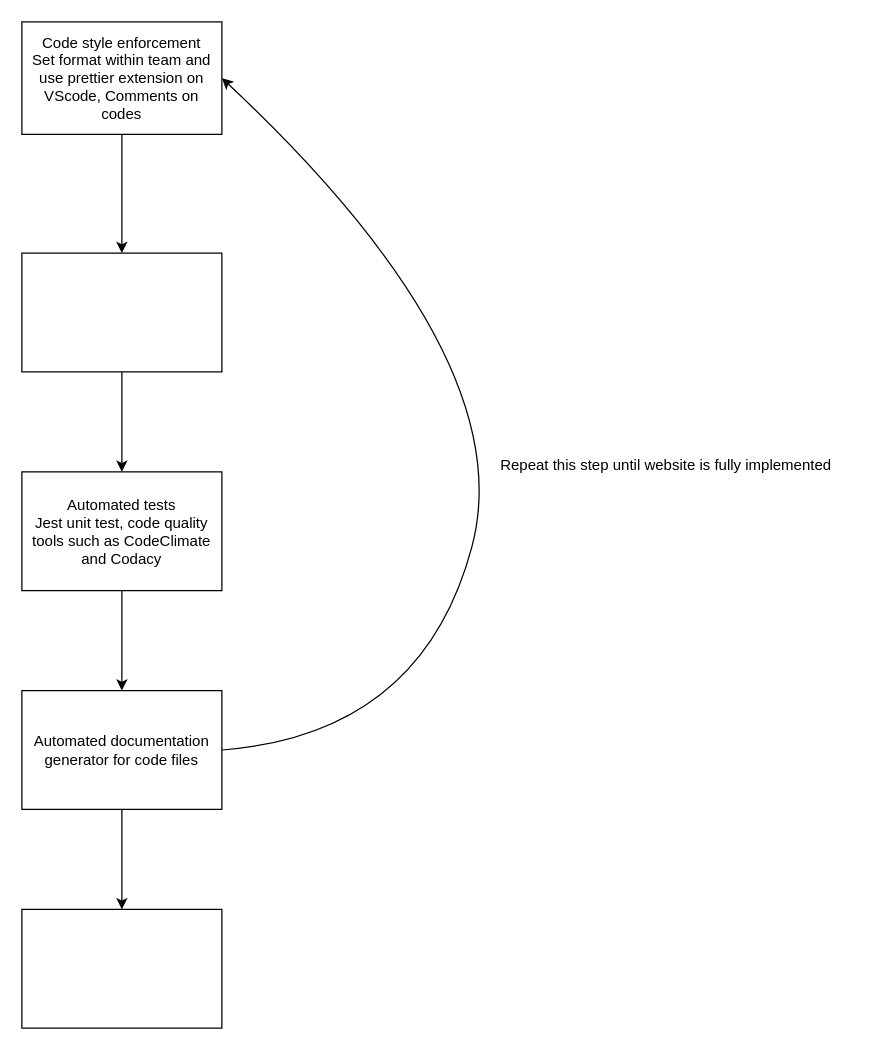
Some shapes in this 869 by 1050 pixel diagram are drawn without their labels. The shapes that lost their labels are listed below. From the top down, each one's box as (x1, y1, x2, y2) in pixels, then its label:
(21, 252, 222, 372): Code review done by team members when performing pull requests
(21, 908, 222, 1028): e2e Testing Check nonfunctional features with tools online Test for
